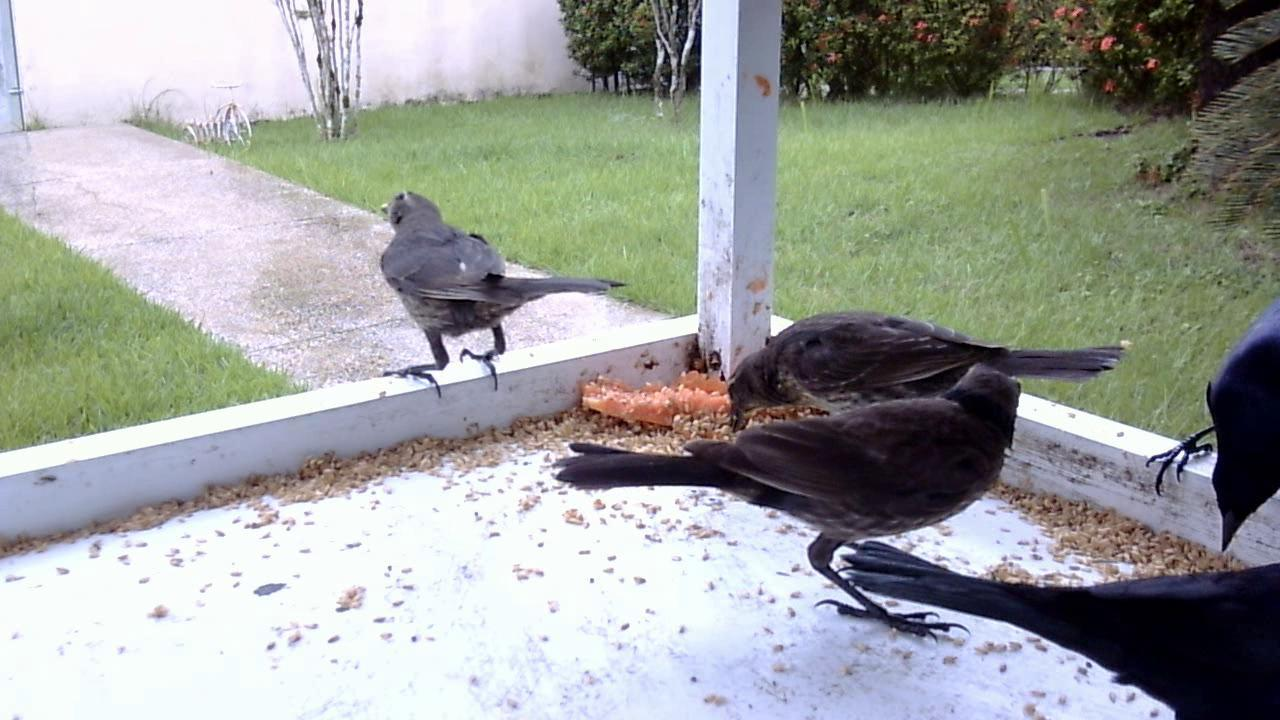chupim: (550, 371, 1038, 639), (854, 483, 1280, 720), (367, 187, 627, 408), (726, 311, 1136, 437), (1139, 277, 1280, 560)
